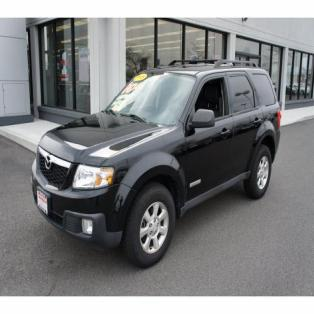Auto: (29, 55, 280, 268)
